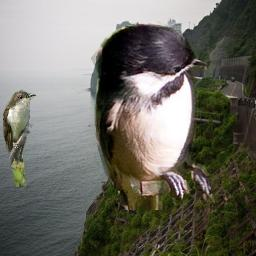Cuckoo: (3, 88, 36, 187)
Swallow: (91, 18, 219, 210)
